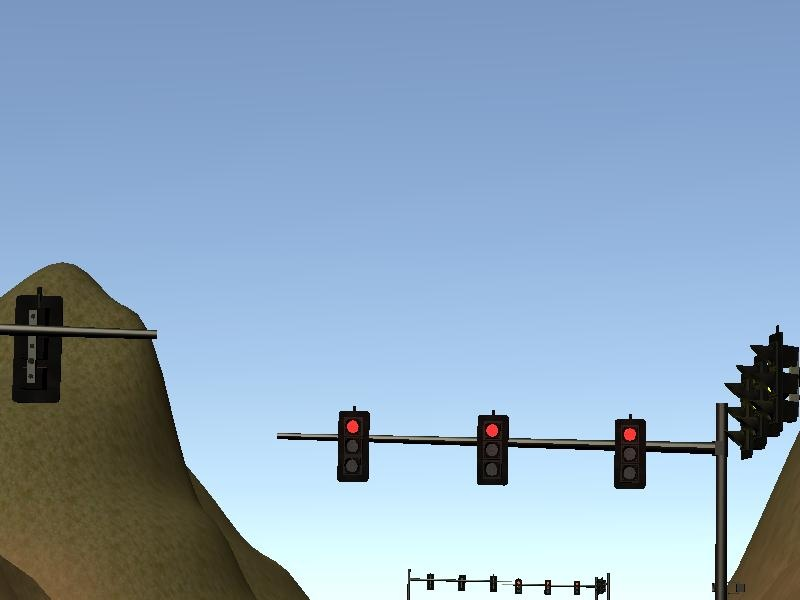red: (610, 414, 654, 494), (474, 408, 515, 491), (333, 408, 374, 487)
